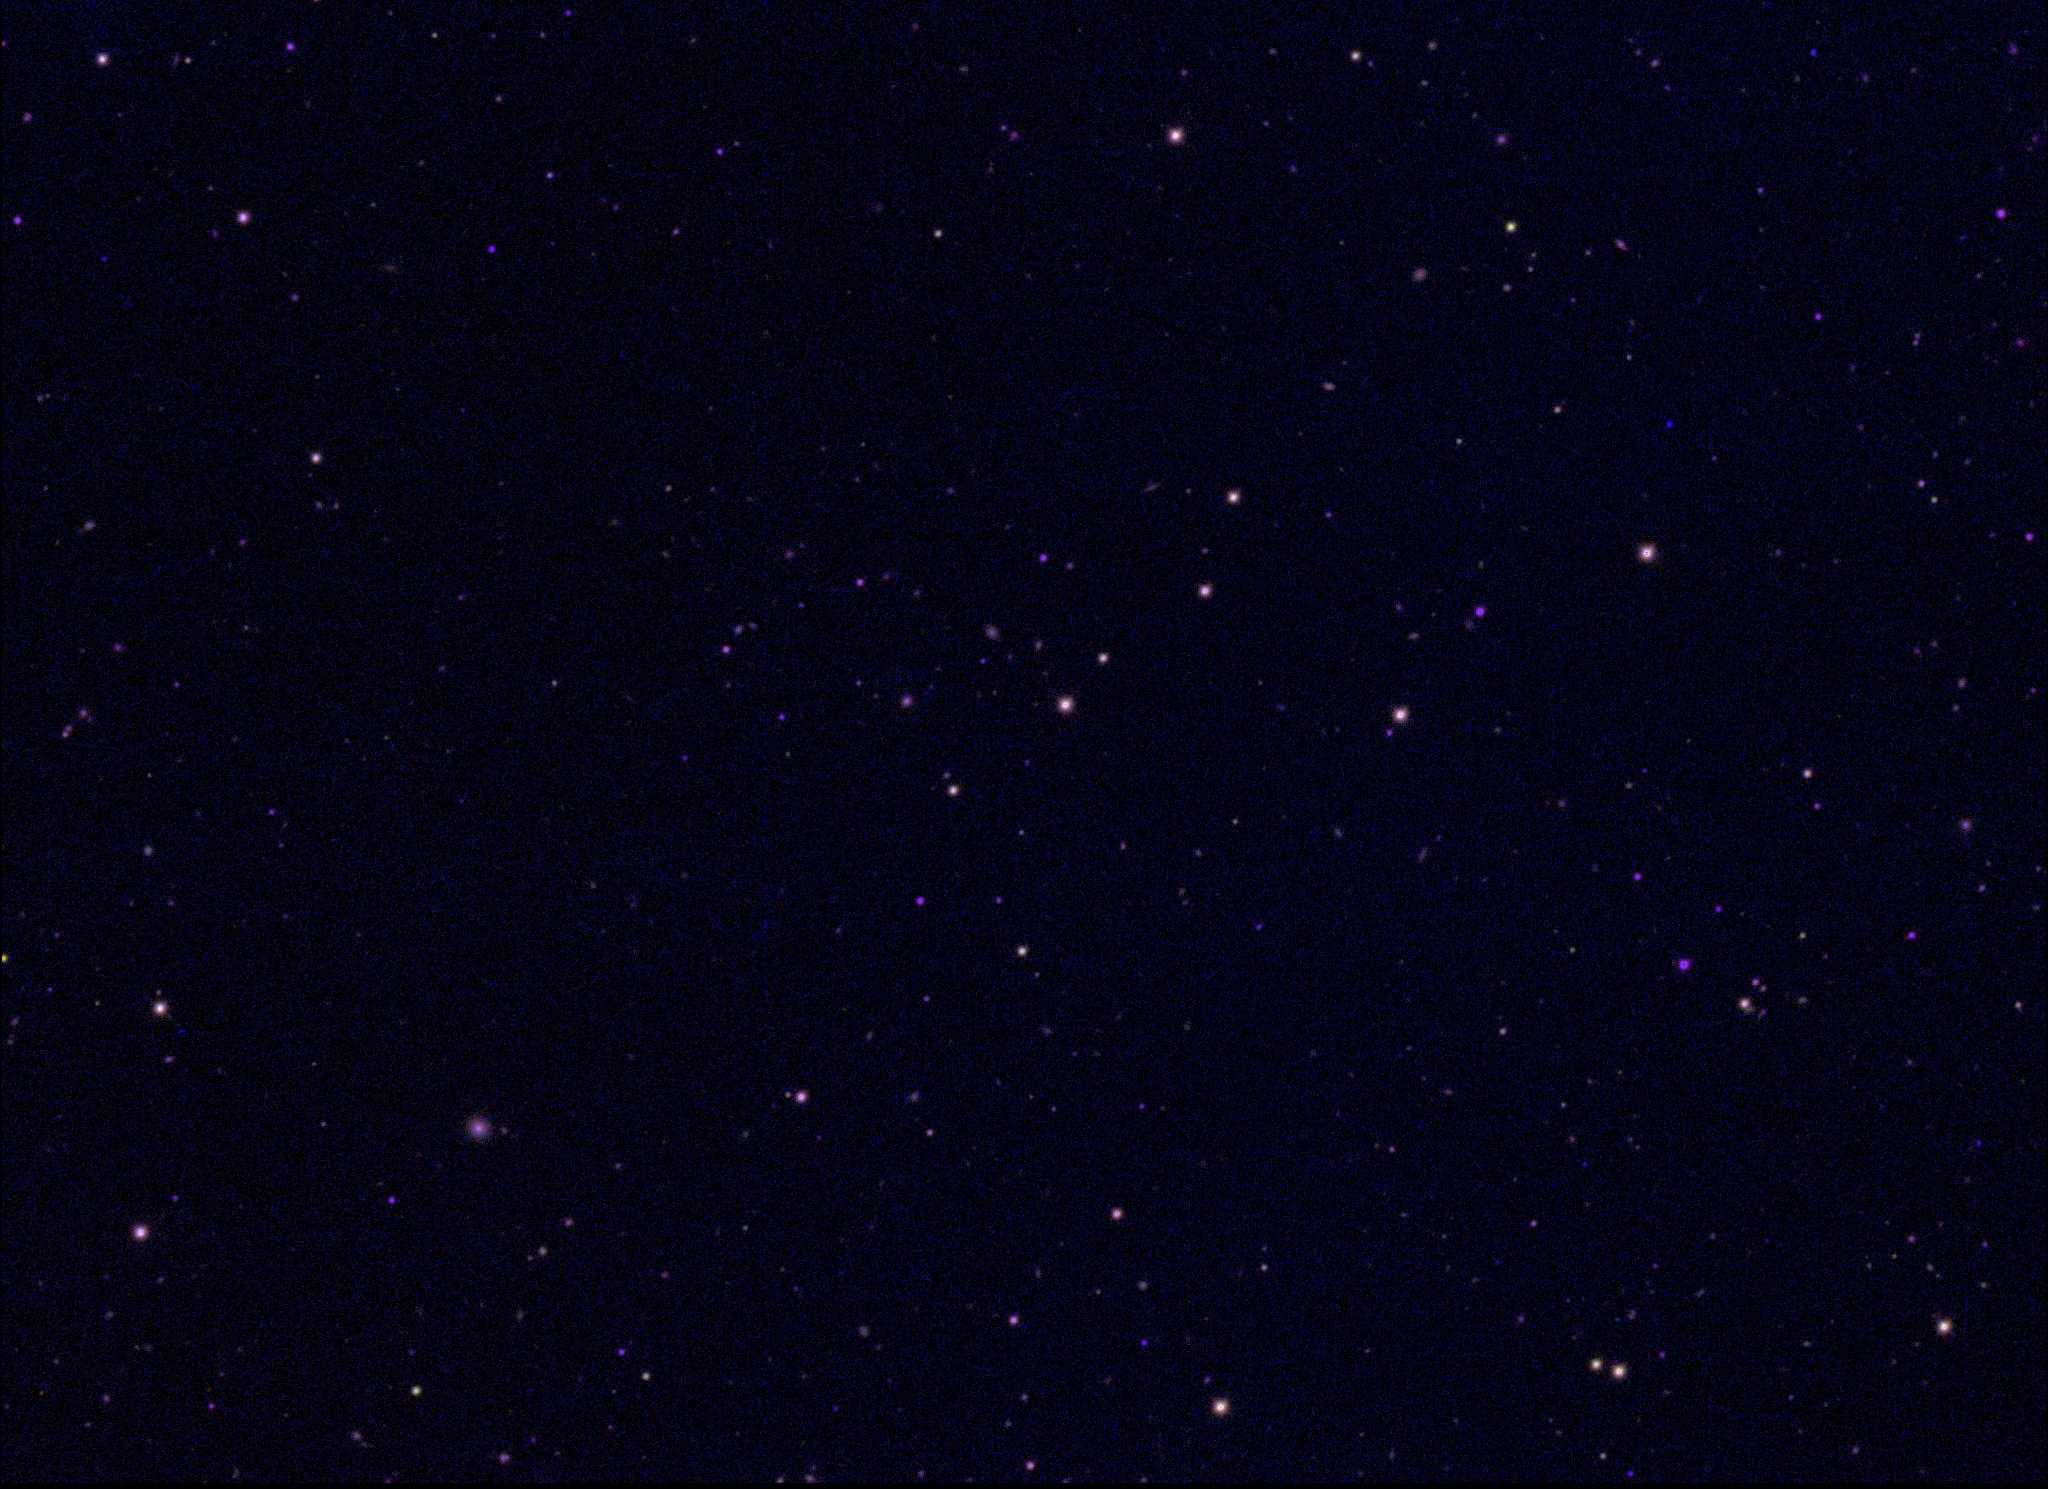L: (1663, 418, 1678, 433)
